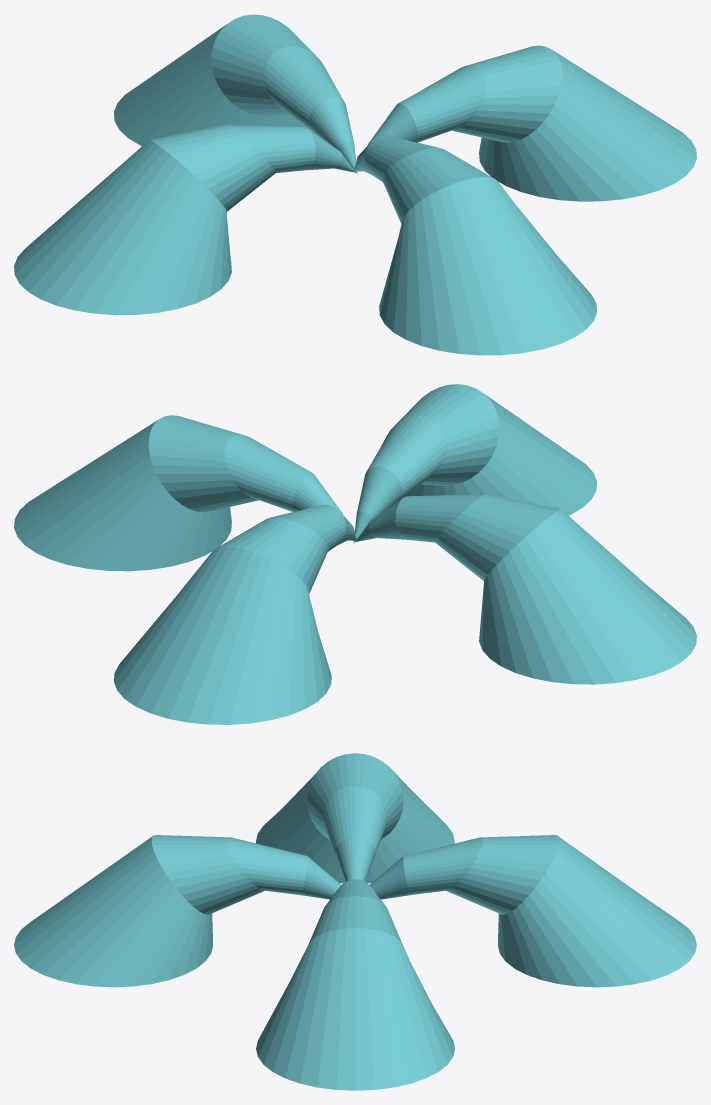
The model's file is water2.fbx.
3 renders of one model, top to bottom at view 1: azimuth 30°, elevation 25°; view 2: azimuth 150°, elevation 25°; view 3: azimuth 270°, elevation 25°, orthographic. The views are drawn at different scales.
Visible parts, largest first — view 1: Sprayer; view 2: Sprayer; view 3: Sprayer.
Part boxes in pixels (x1=…): Sprayer: x1=14, y1=14, x2=696, y2=355; Sprayer: x1=14, y1=384, x2=696, y2=724; Sprayer: x1=14, y1=753, x2=696, y2=1090.
Bounding box in the file's own units: 1604 × 269 × 1591.
